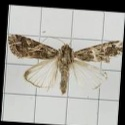Spodoptera litura: (4, 35, 121, 96)
